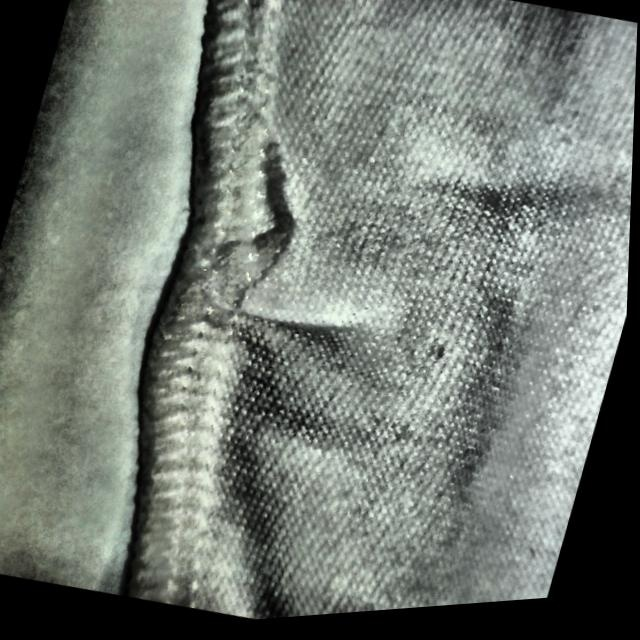seam: (136, 117, 409, 396)
